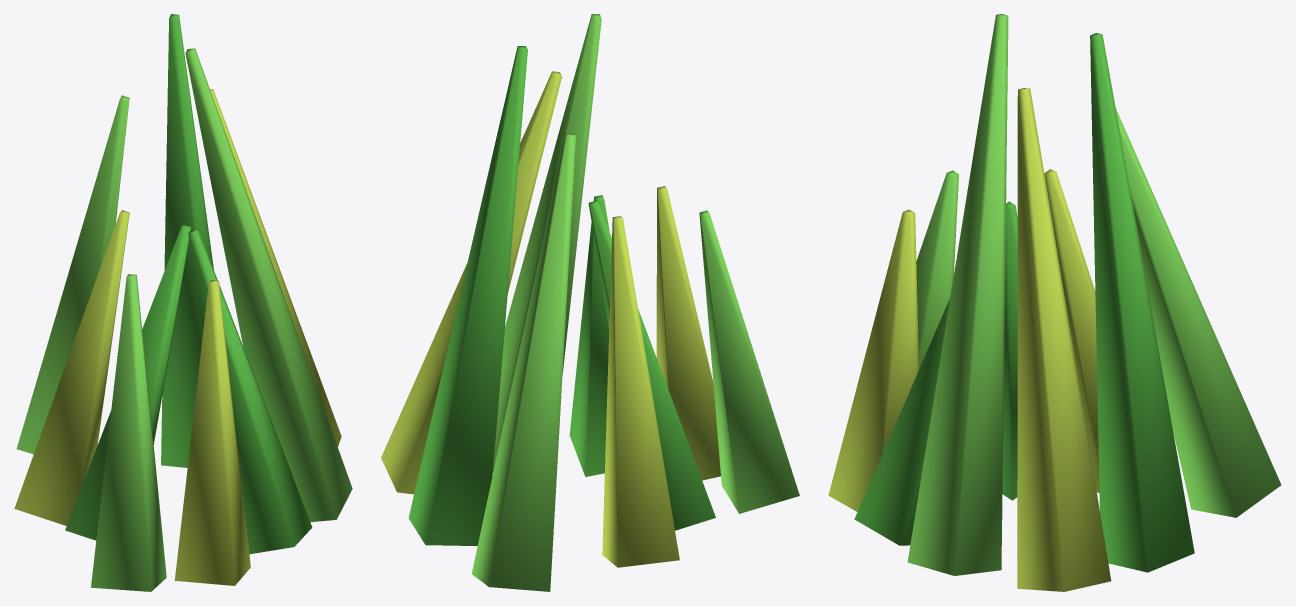
File: hd_grass.gltf
The picture shows the model from 3 angles, left to right: view 1: azimuth 30°, elevation 25°; view 2: azimuth 150°, elevation 25°; view 3: azimuth 270°, elevation 25°; orthographic projection. The views are drawn at different scales.
Parts seen in each view (by area): view 1: g8, g5, g6, g3, g1, g7, g2, g4, g0; view 2: g1, g2, g3, g5, g6, g0, g8, g7, g4; view 3: g8, g1, g0, g2, g6, g7, g3, g5, g4.
Boxes of the visible parts, x1,y1,x2,y2 form: g8: (185, 48, 352, 521); g5: (91, 274, 166, 591); g6: (174, 280, 250, 585); g3: (14, 210, 129, 525); g1: (161, 14, 213, 467); g7: (188, 229, 312, 554); g2: (16, 95, 129, 454); g4: (65, 224, 191, 540); g0: (210, 89, 341, 446); g1: (408, 46, 527, 545); g2: (471, 133, 575, 591); g3: (602, 216, 679, 567); g5: (699, 210, 799, 513); g6: (656, 186, 720, 480); g0: (381, 71, 561, 494); g8: (493, 14, 601, 472); g7: (569, 195, 609, 476); g4: (588, 200, 715, 530); g8: (907, 14, 1008, 575); g1: (1090, 33, 1194, 572); g0: (1017, 88, 1111, 591); g2: (1116, 109, 1281, 517); g6: (828, 209, 918, 511); g7: (854, 299, 949, 545); g3: (1044, 169, 1099, 493); g5: (916, 170, 958, 368); g4: (1002, 201, 1017, 500).
Size of the model in its own units: 0.3877 by 0.5388 by 0.4325.
